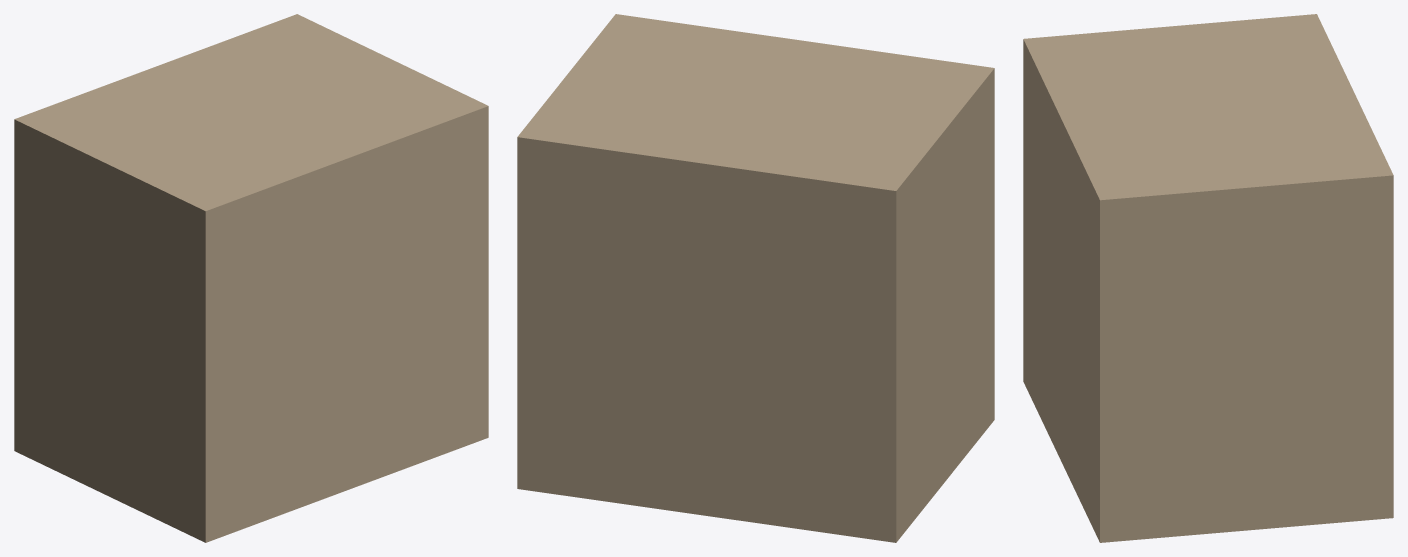
Rendered from bld_106455962.dae.
3 renders of one model, left to right at view 1: azimuth 30°, elevation 25°; view 2: azimuth 150°, elevation 25°; view 3: azimuth 270°, elevation 25°, orthographic. The views are drawn at different scales.
Parts seen in each view (by area): view 1: bld_106455962; view 2: bld_106455962; view 3: bld_106455962.
Part boxes in pixels (left/top/right/bottom): bld_106455962: left=14, top=14, right=488, bottom=542; bld_106455962: left=517, top=14, right=994, bottom=542; bld_106455962: left=1023, top=14, right=1393, bottom=542.
Bounding box in the file's own units: 9.33 × 7.84 × 8.
